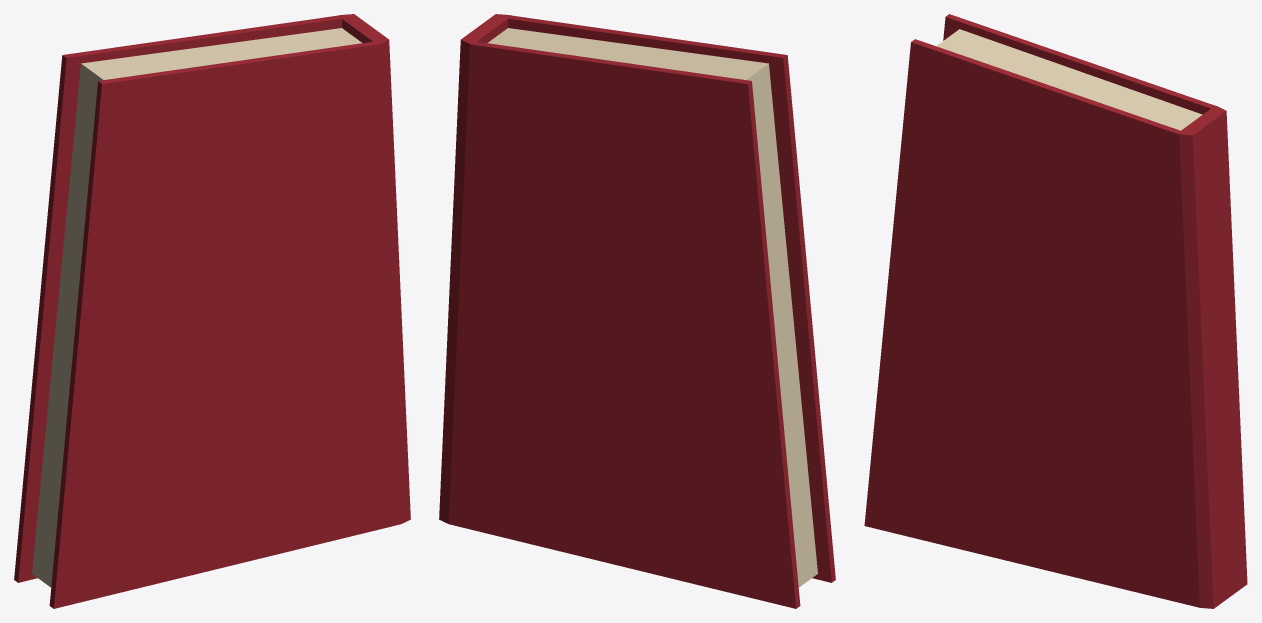
File: Book_02.glb
3 renders of one model, left to right at view 1: azimuth 30°, elevation 25°; view 2: azimuth 150°, elevation 25°; view 3: azimuth 330°, elevation 25°, orthographic. The views are drawn at different scales.
Visible parts, largest first — view 1: Book; view 2: Book; view 3: Book.
Part boxes in pixels (box(x1,y1,x2,y2)): Book: box(14, 14, 410, 608); Book: box(439, 14, 835, 608); Book: box(864, 14, 1247, 608).
Size of the model in its own units: 0.2286 by 0.3119 by 0.0438.
